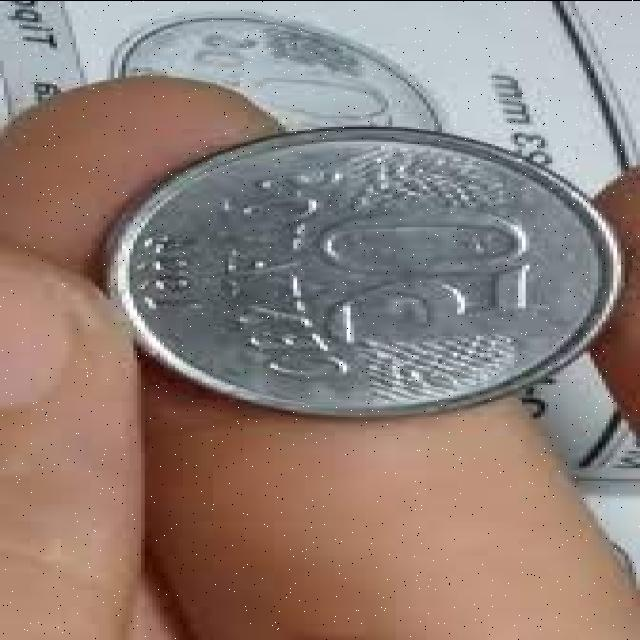50 cent: (99, 127, 622, 410)
